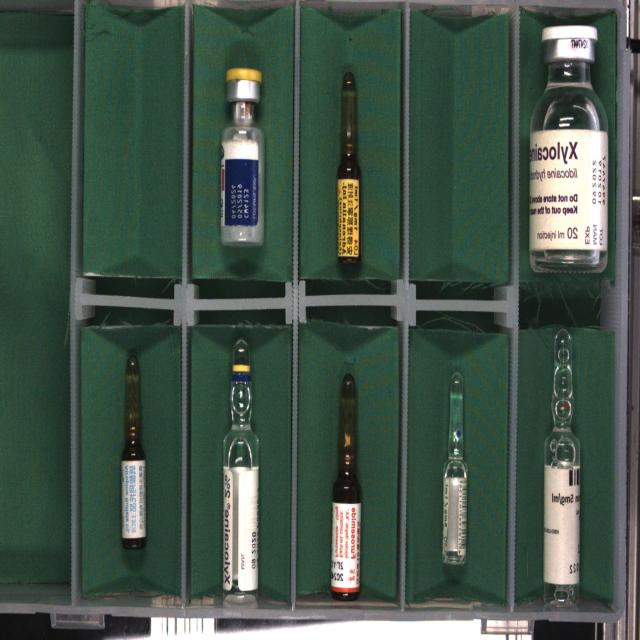Vials: (529, 25, 609, 271), (221, 68, 264, 246)
